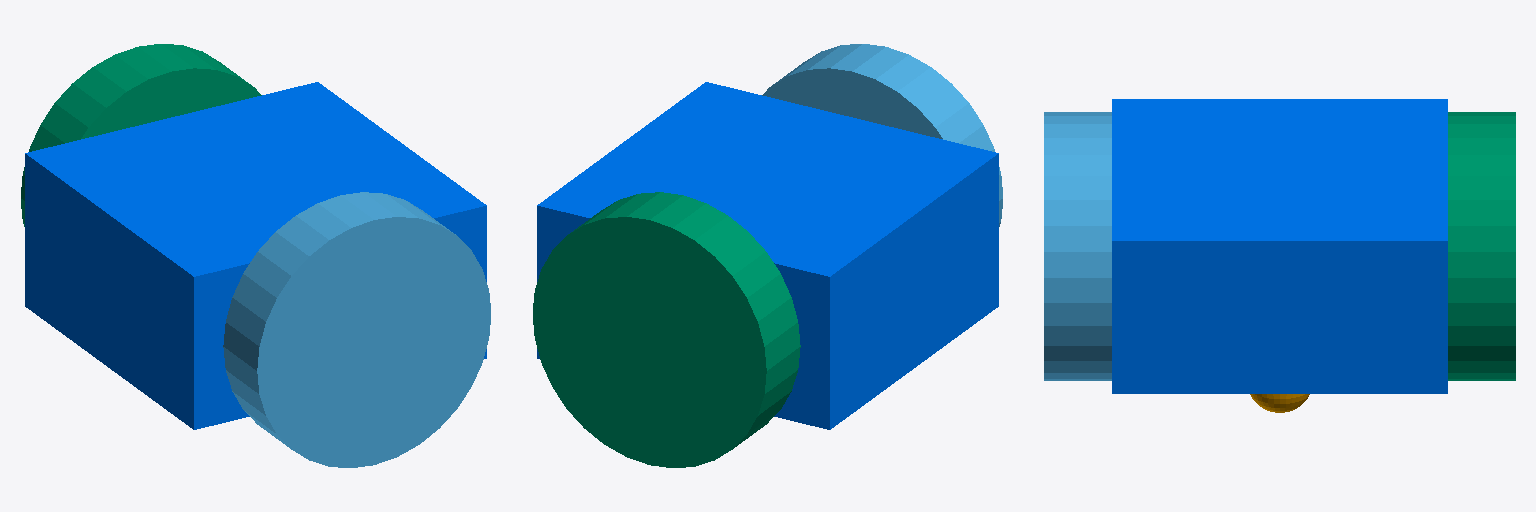
The robot description file, URDF, robot "dd_robot":
<robot name="dd_robot">

<!-- Base Link -->
<link name="base_link">
	<visual>
        <material name="blue">
            <color rgba="0 0.5 1 1"/>
        </material>
		<origin xyz="0 0 0" rpy="0 0 0"/>
		<geometry>
			<box size="0.5 0.5 0.25"/>
		</geometry>
	</visual>

    <!-- Caster -->
    <visual name="caster">
        <origin xyz="0.2 0 -0.125" rpy="0 0 0" />
        <geometry>
            <sphere radius="0.05" />
        </geometry>
    </visual>

    <collision>
        <origin xyz="0 0 0" rpy="0 0 0" />
        <geometry>
            <box size="0.5 0.5 0.25"/>
        </geometry>
    </collision>
</link>

<!-- Right Wheel -->
<link name="right_wheel">
	<visual>
		<origin xyz="0 0 0" rpy="1.570795 0 0"/>
		<geometry>
			<cylinder length="0.1" radius="0.2"/>
		</geometry>
	</visual>

    <collision>
        <origin xyz="0 0 0" rpy="0 0 0" />
        <geometry>
            <box size="0.5 0.5 0.25"/>
        </geometry>
    </collision>    
</link>
<joint name="joint_right_wheel" type="continuous">
	<parent link="base_link"/>
	<child link="right_wheel"/>
	<origin xyz="0 -0.30 0" rpy="0 0 0"/>
	<axis xyz="0 1 0"/>
</joint>

<!-- Left Wheel -->
<link name="left_wheel">
	<visual>
		<origin xyz="0 0 0" rpy="1.570795 0 0"/>
		<geometry>
			<cylinder length="0.1" radius="0.2"/>
		</geometry>
	</visual>

    <collision>
        <origin xyz="0 0 0" rpy="0 0 0" />
        <geometry>
            <box size="0.5 0.5 0.25"/>
        </geometry>
    </collision>    
</link>
<joint name="joint_left_wheel" type="continuous">
	<parent link="base_link"/>
	<child link="left_wheel"/>
	<origin xyz="0 0.30 0" rpy="0 0 0"/>
	<axis xyz="0 1 0"/>
</joint>

</robot>

--- What the picture shows (computed from the rendered views, not written in the file) ---
The picture shows the robot from 3 angles, left to right: view 1: azimuth 30°, elevation 25°; view 2: azimuth 150°, elevation 25°; view 3: azimuth 270°, elevation 25°; orthographic projection.
Robot: dd_robot — 3 links, 2 joints (2 continuous); root link base_link; default pose: all joints at 0.
Links seen in each view (by area): view 1: base_link, right_wheel, left_wheel; view 2: base_link, left_wheel, right_wheel; view 3: base_link, right_wheel, left_wheel.
Boxes of the visible links, x1,y1,x2,y2 form: base_link: [25, 82, 486, 429]; right_wheel: [223, 192, 490, 467]; left_wheel: [21, 44, 261, 226]; base_link: [537, 82, 998, 429]; left_wheel: [533, 192, 800, 467]; right_wheel: [762, 44, 1002, 226]; base_link: [1112, 99, 1447, 412]; right_wheel: [1044, 112, 1111, 380]; left_wheel: [1448, 112, 1515, 380].
Size in the robot's own frame: 0.5 by 0.7 by 0.4 metres.
Geometry: primitives only (box / cylinder / sphere), no mesh files.
